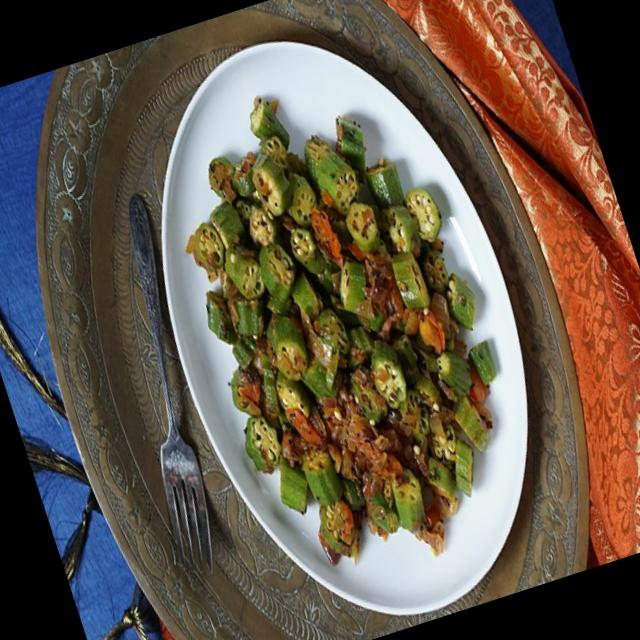BhindiMasala: (144, 53, 546, 602)
